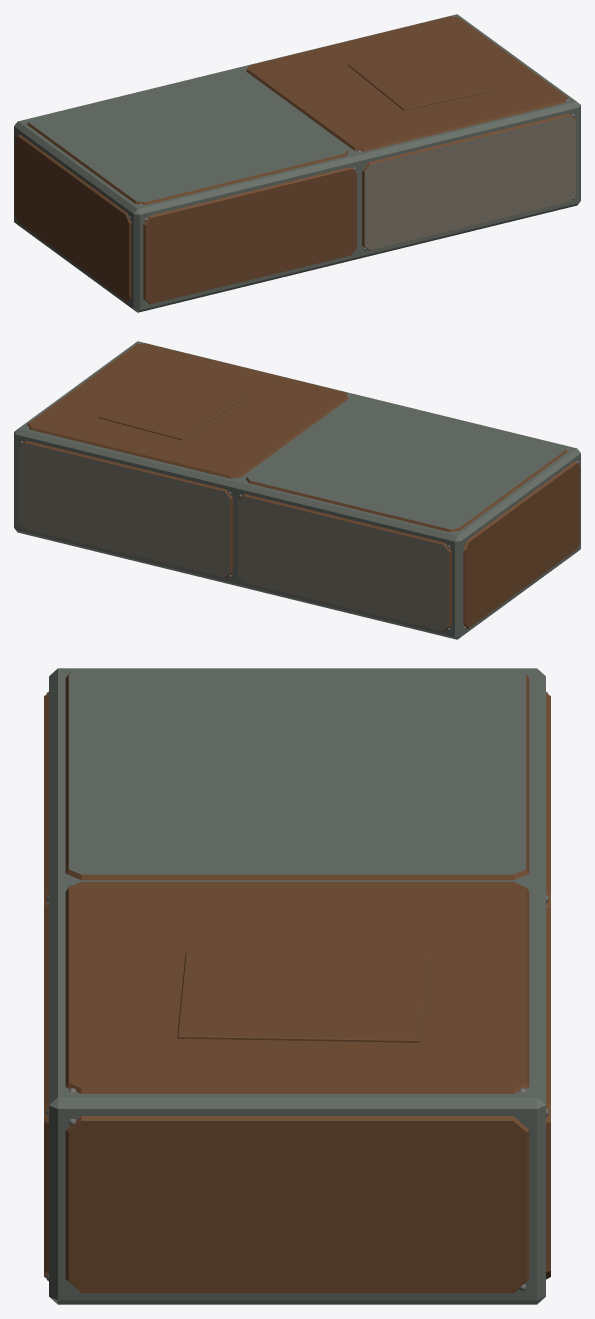
Rendered from R4B_Plate1x2.fbx.
3 renders of one model, top to bottom at view 1: azimuth 30°, elevation 25°; view 2: azimuth 150°, elevation 25°; view 3: azimuth 270°, elevation 25°, orthographic. The views are drawn at different scales.
Visible parts, largest first — view 1: R4B_Plate1x2; view 2: R4B_Plate1x2; view 3: R4B_Plate1x2.
Boxes of the visible parts, left/top/right/bottom form: R4B_Plate1x2: left=14, top=14, right=580, bottom=312; R4B_Plate1x2: left=14, top=341, right=580, bottom=639; R4B_Plate1x2: left=44, top=668, right=550, bottom=1304.
Bounding box in the file's own units: 1.07 × 0.248 × 0.52.
